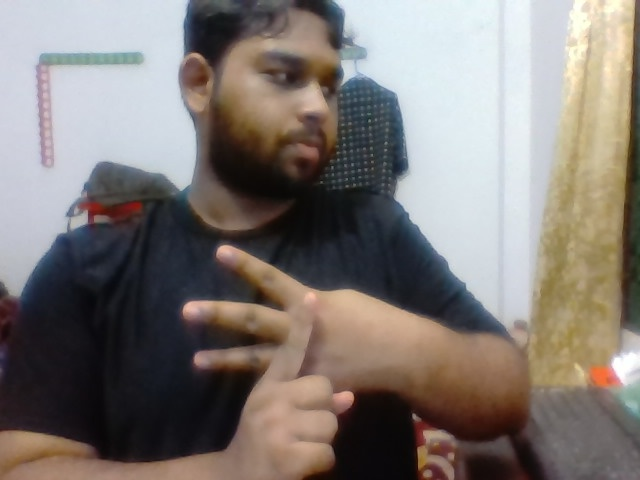E: (167, 234, 399, 477)
